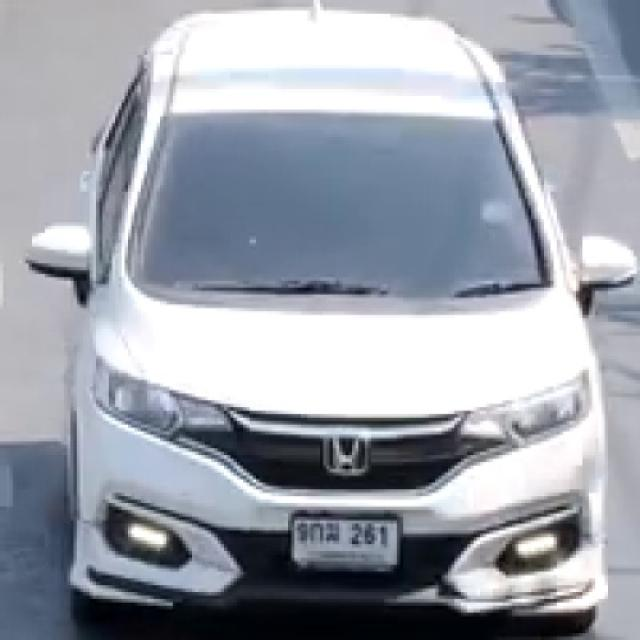plate: (289, 509, 402, 575)
